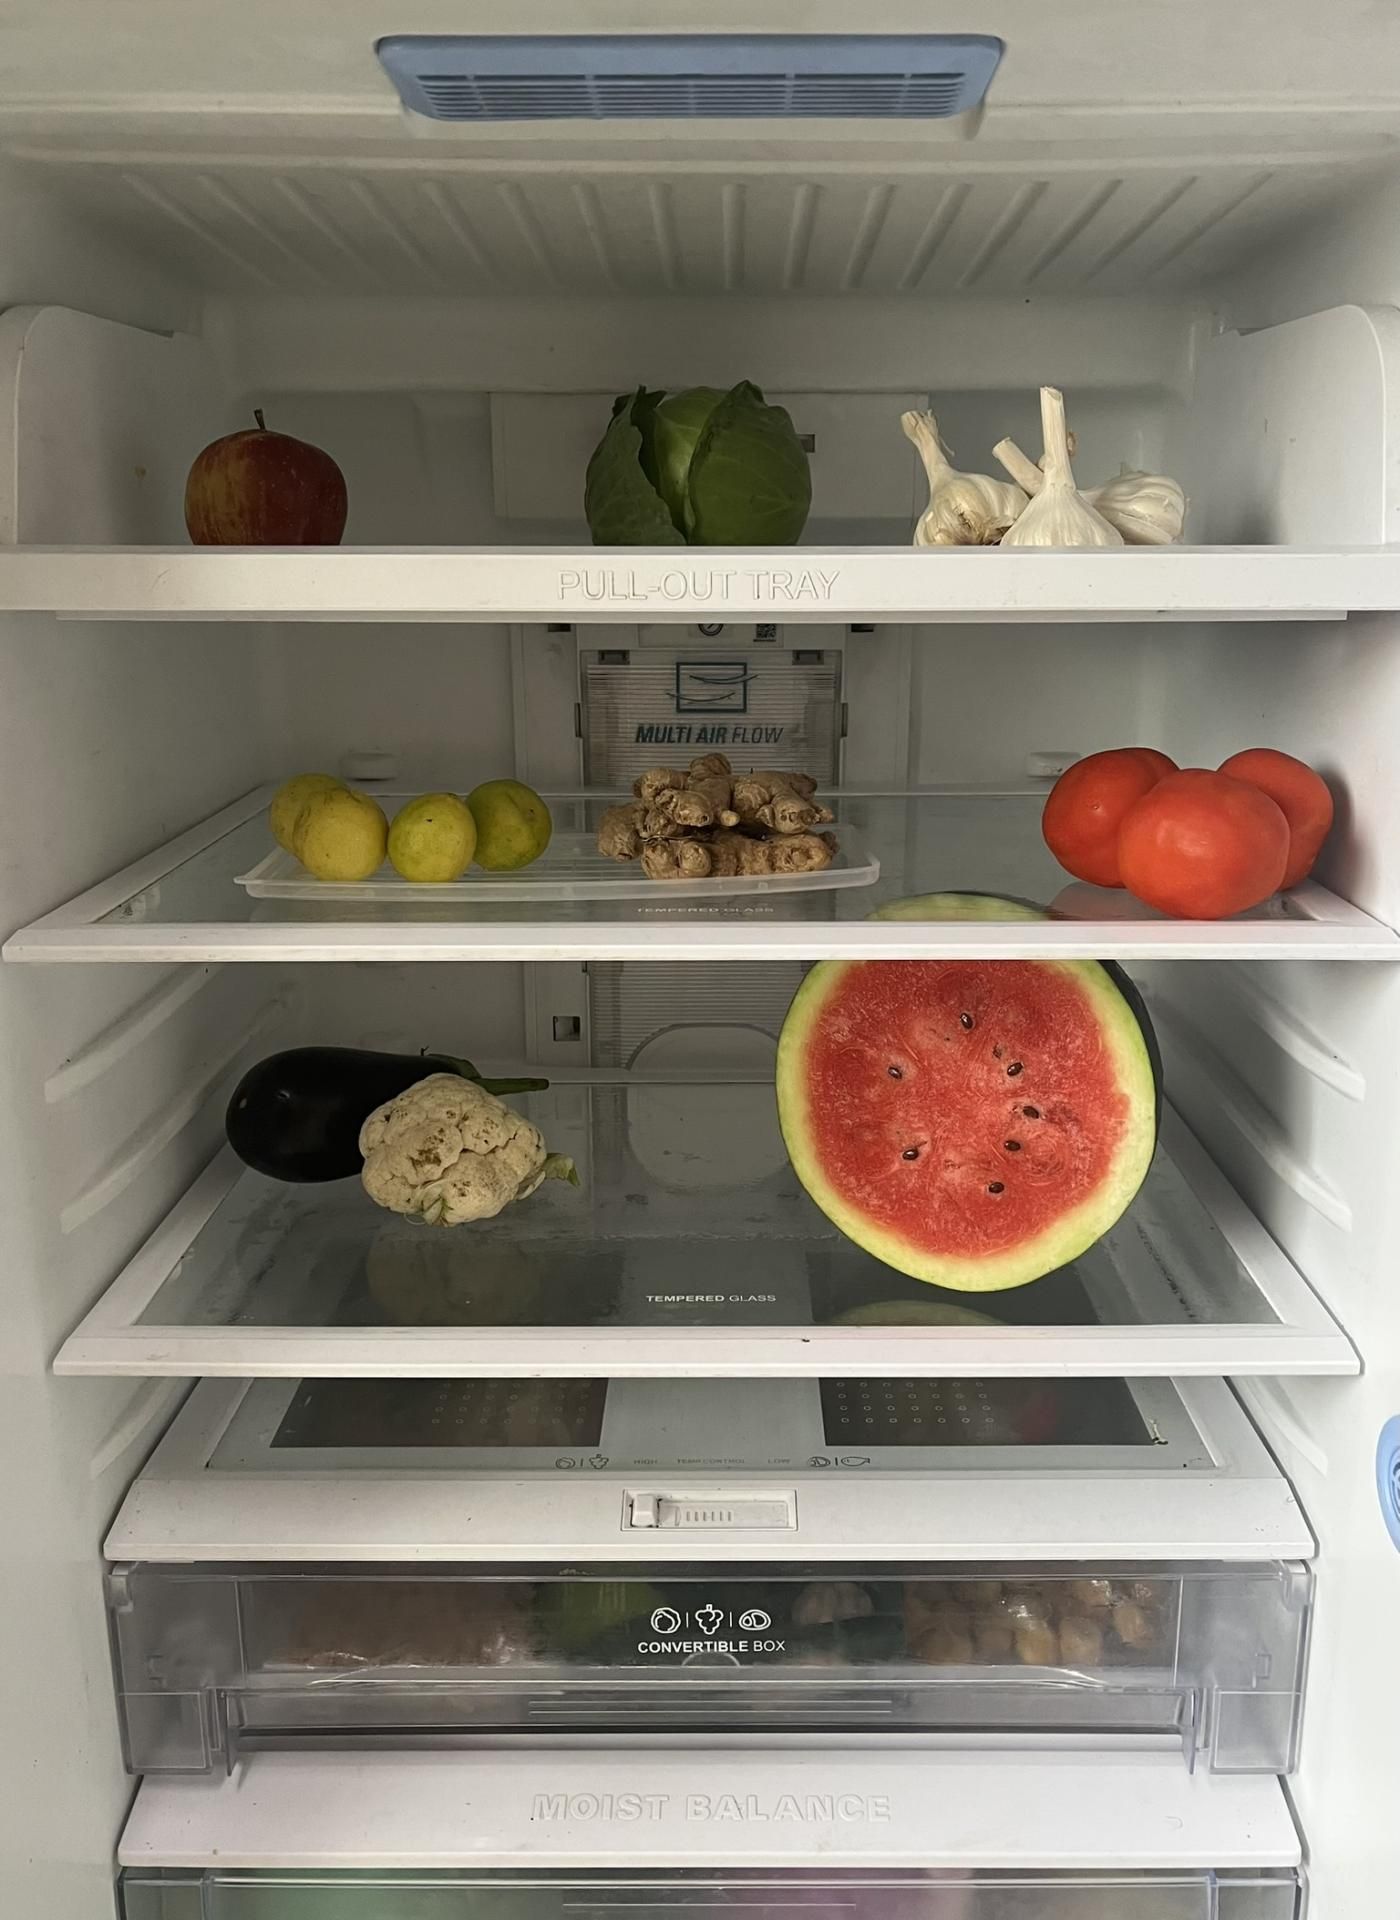apple: (176, 398, 364, 541)
cabbage: (571, 374, 813, 541)
cauliflower: (355, 1069, 553, 1230)
garlic: (895, 385, 1200, 546), (590, 736, 841, 881), (264, 765, 565, 880)
tomato: (1047, 736, 1333, 921)
watermelon: (777, 888, 1164, 1294)
